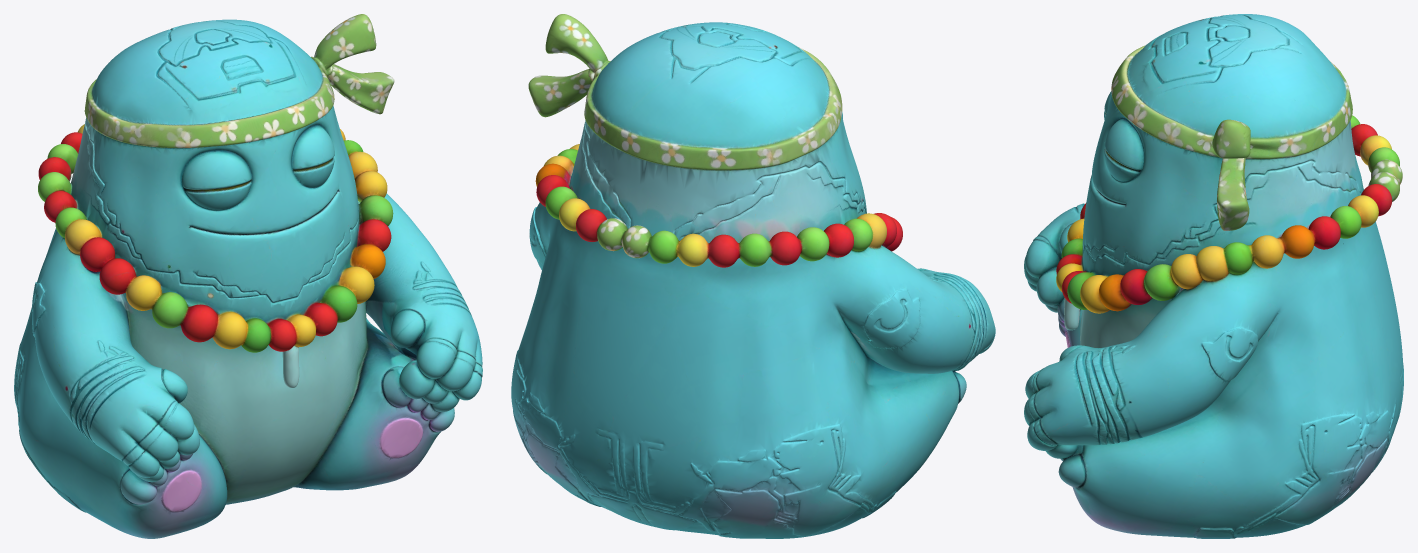
Rendered from zen.glb.
The picture shows the model from 3 angles, left to right: view 1: azimuth 30°, elevation 25°; view 2: azimuth 150°, elevation 25°; view 3: azimuth 270°, elevation 25°; orthographic projection. The views are drawn at different scales.
Bounding box in the file's own units: 1.82 × 1.9 × 1.5.
1 material, 1 textured.
